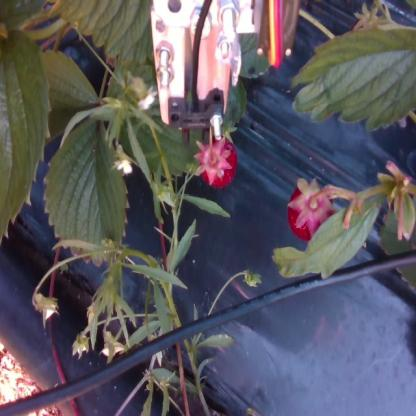ripe: (290, 187, 332, 239), (202, 137, 240, 185)
